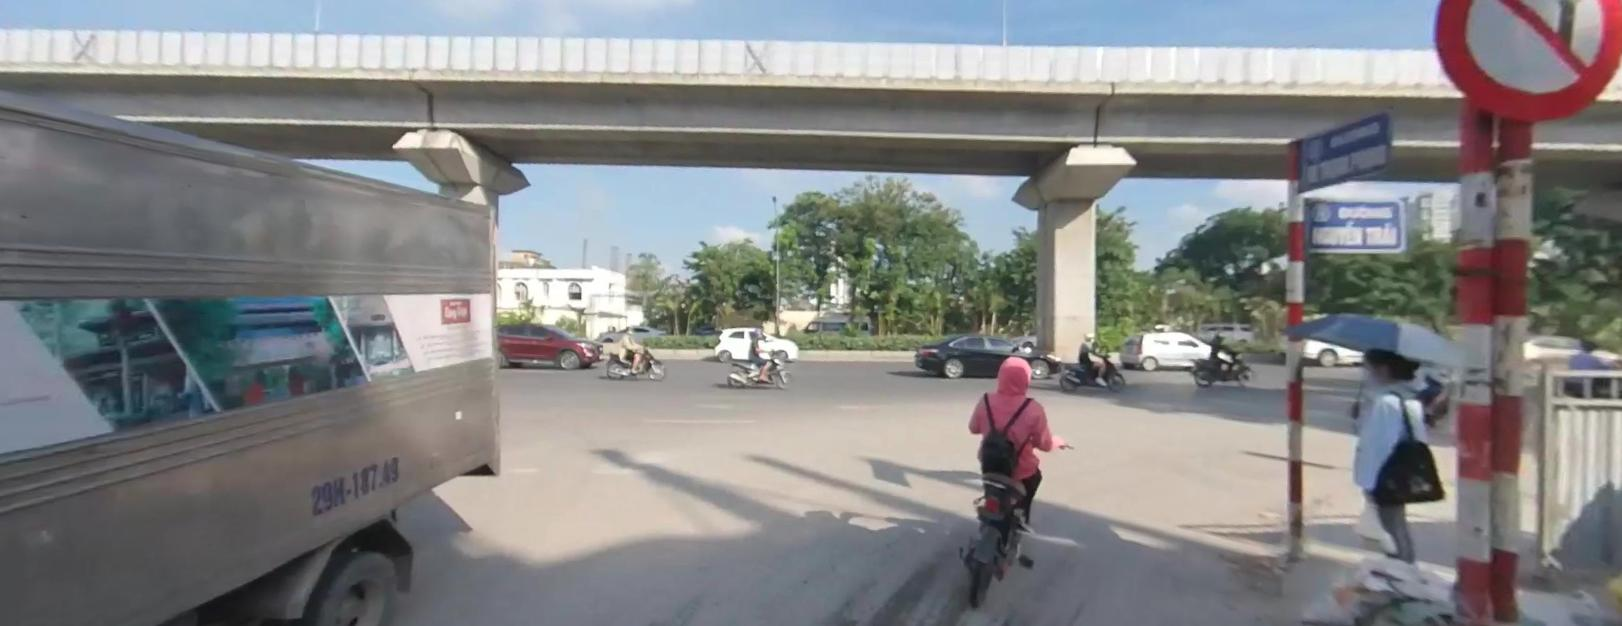Cam re: (1429, 1, 1618, 123), (1432, 1, 1619, 122)
